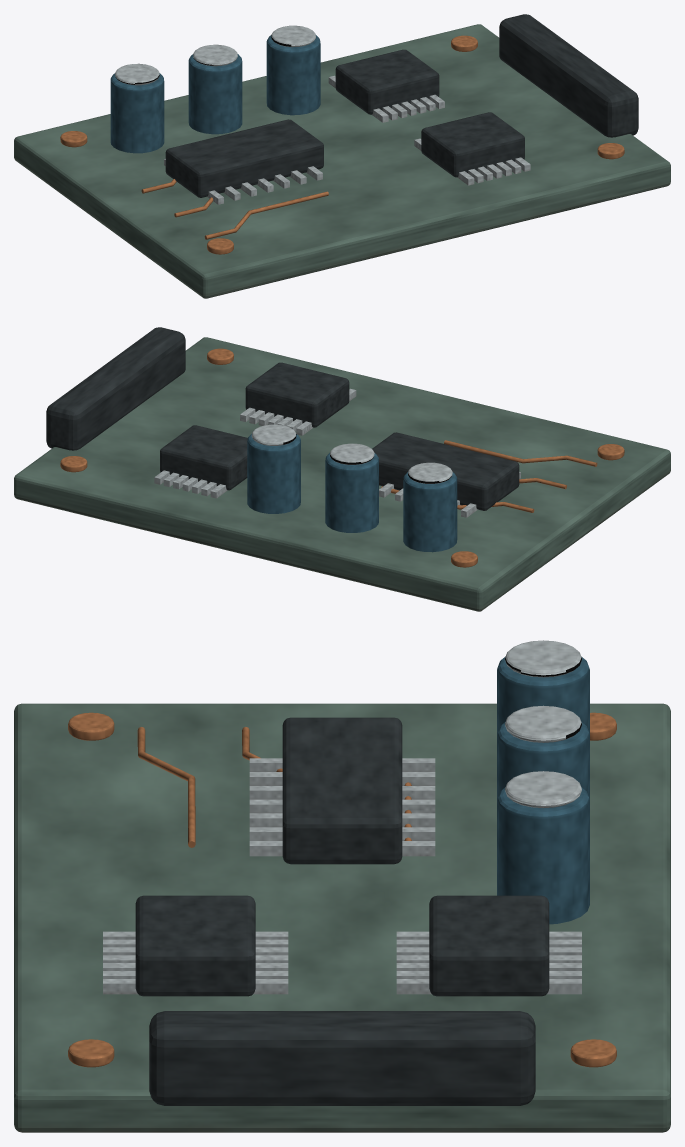
File: GR_ControlBoard_04.glb
3 renders of one model, top to bottom at view 1: azimuth 30°, elevation 25°; view 2: azimuth 150°, elevation 25°; view 3: azimuth 270°, elevation 25°, orthographic. The views are drawn at different scales.
Visible parts, largest first — view 1: Static; view 2: Static; view 3: Static.
Part boxes in pixels (box(x1,y1,x2,y2)): Static: box(14, 14, 670, 298); Static: box(14, 327, 670, 611); Static: box(14, 640, 670, 1132).
Bounding box in the file's own units: 0.2445 × 0.046 × 0.17.
1 material, 1 textured.
